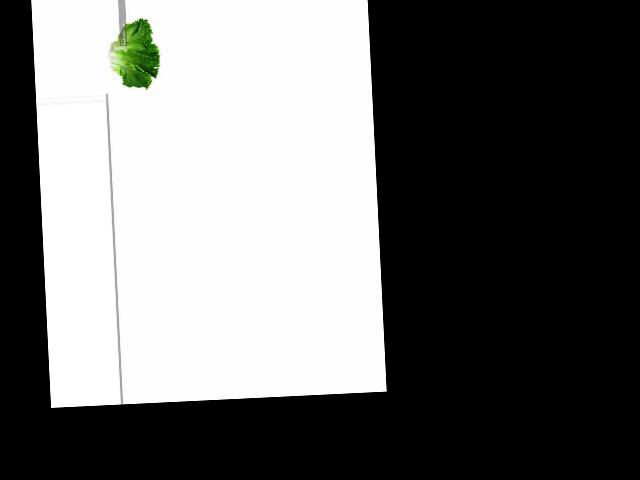lettuce: (106, 20, 160, 90)
